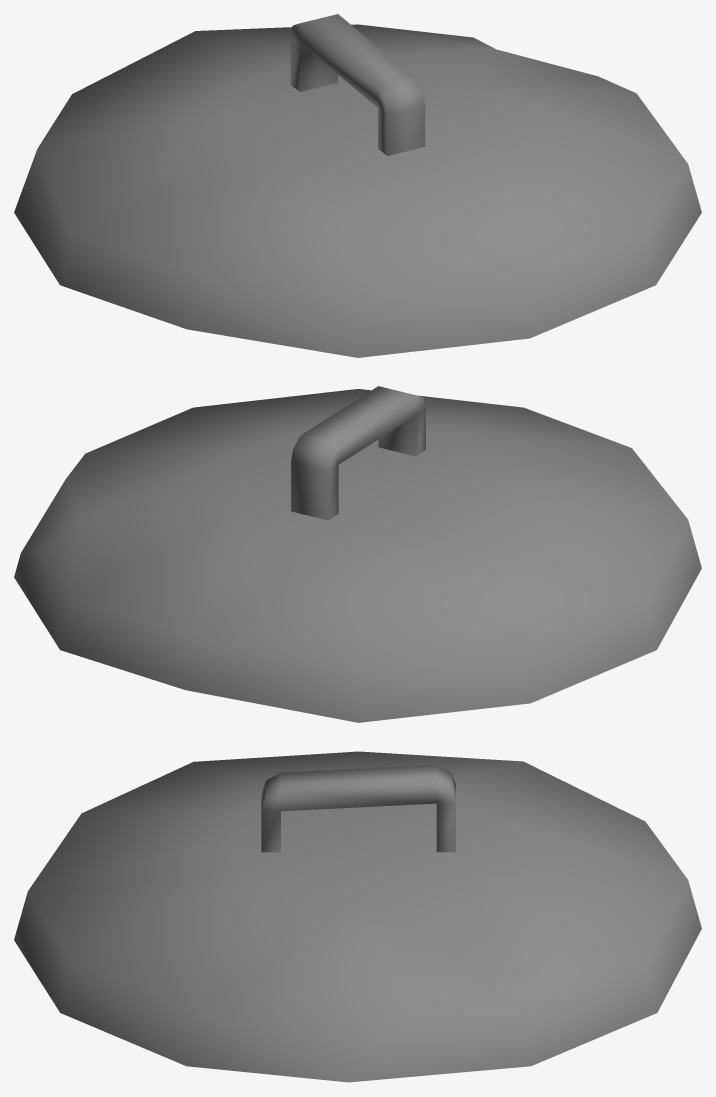
File: SM_Prop_TrashCan_Lid_Smooth_01.obj
3 renders of one model, top to bottom at view 1: azimuth 30°, elevation 25°; view 2: azimuth 150°, elevation 25°; view 3: azimuth 270°, elevation 25°, orthographic.
Parts seen in each view (by area): view 1: SM_Prop_TrashCan_Lid_Smooth_01_Mat_PolygonCity_Texture_01_A; view 2: SM_Prop_TrashCan_Lid_Smooth_01_Mat_PolygonCity_Texture_01_A; view 3: SM_Prop_TrashCan_Lid_Smooth_01_Mat_PolygonCity_Texture_01_A.
Part boxes in pixels (<box>): SM_Prop_TrashCan_Lid_Smooth_01_Mat_PolygonCity_Texture_01_A: <box>14,14,701,357</box>; SM_Prop_TrashCan_Lid_Smooth_01_Mat_PolygonCity_Texture_01_A: <box>14,386,701,722</box>; SM_Prop_TrashCan_Lid_Smooth_01_Mat_PolygonCity_Texture_01_A: <box>14,751,701,1082</box>.
Bounding box in the file's own units: 0.7682 × 0.2023 × 0.7602.
1 material, 1 textured.
